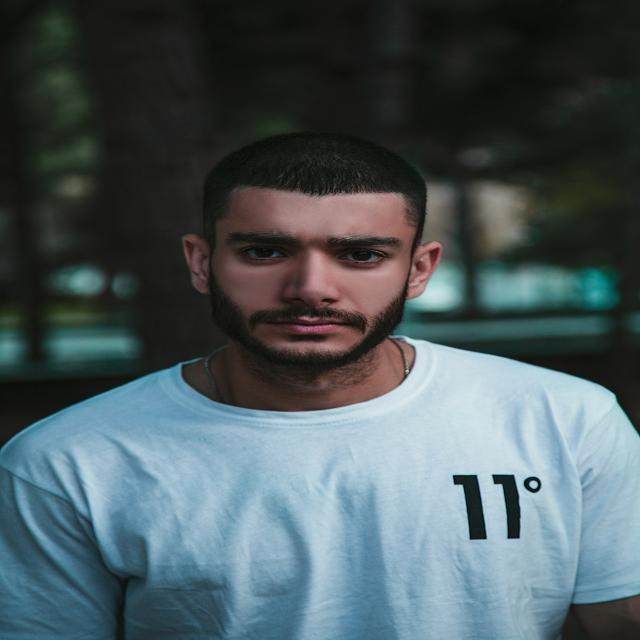human: (2, 131, 640, 640)
